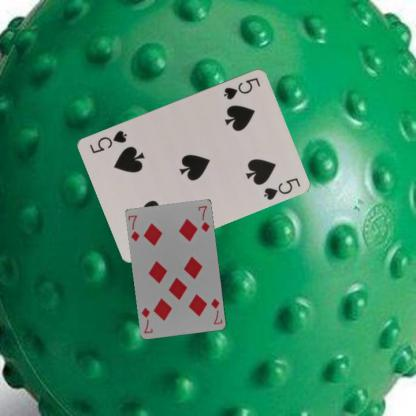5s: (221, 74, 262, 100)
7d: (209, 296, 224, 326), (126, 212, 141, 242)
